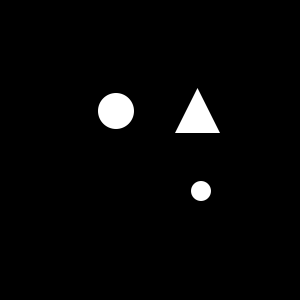rectangle: (98, 93, 134, 129), (191, 181, 211, 201)
triangle: (175, 88, 220, 133)
